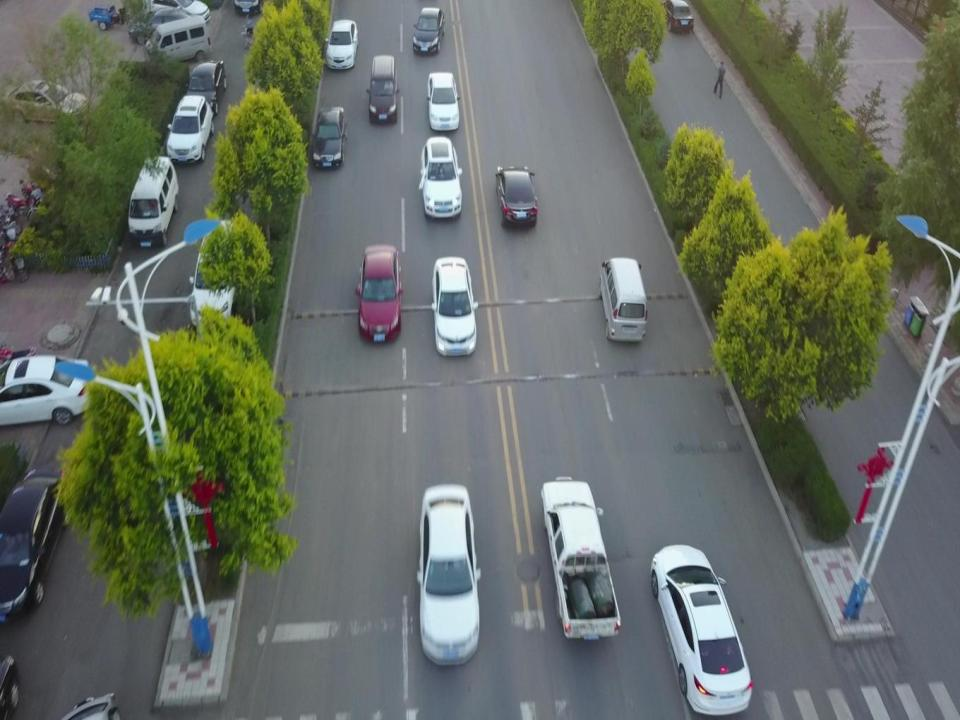car: (648, 544, 753, 717), (0, 459, 73, 620), (419, 483, 478, 664), (0, 354, 95, 428), (191, 221, 239, 326), (432, 258, 479, 357), (358, 244, 400, 344), (2, 80, 86, 122), (422, 137, 462, 219), (168, 96, 212, 168), (132, 8, 205, 46), (496, 165, 540, 228), (188, 58, 224, 121), (367, 55, 398, 126), (312, 108, 347, 170), (426, 71, 460, 130), (326, 20, 358, 68), (413, 8, 445, 54), (151, 0, 208, 24), (662, 0, 695, 32)
truck: (541, 476, 622, 639)
van: (130, 157, 176, 249), (598, 256, 646, 344), (142, 17, 211, 64)
